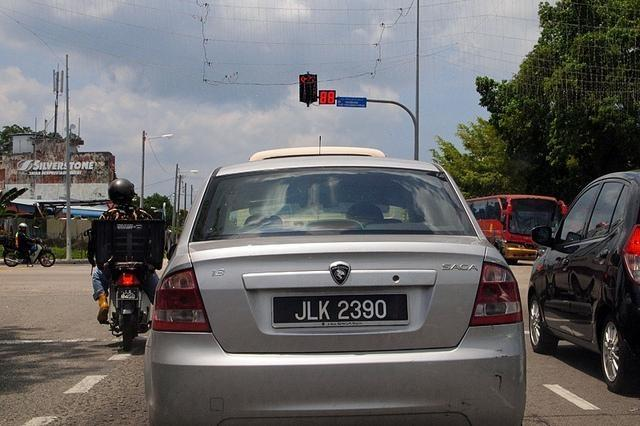bus: (464, 194, 568, 264)
car: (146, 161, 524, 421), (529, 172, 640, 394), (246, 146, 388, 162)
motorcycle: (105, 256, 154, 354), (3, 237, 55, 268)
